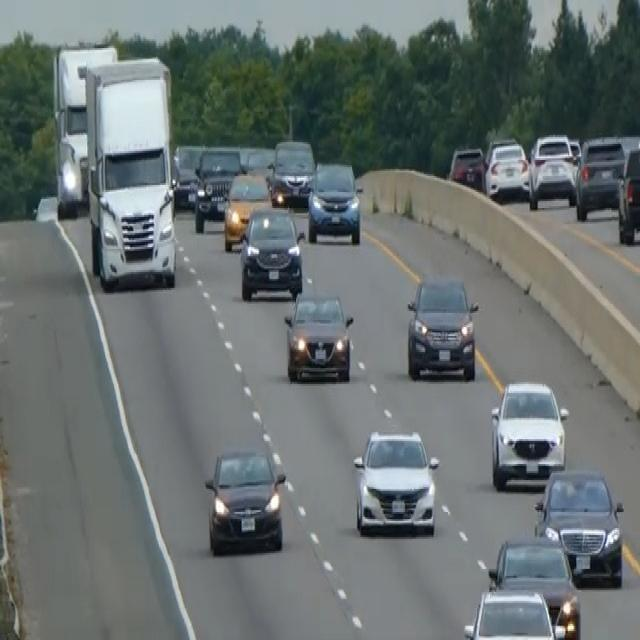car: (534, 466, 624, 586), (487, 534, 581, 638), (352, 427, 439, 537), (203, 444, 286, 554), (489, 377, 569, 489), (405, 272, 479, 380), (283, 288, 354, 384), (238, 202, 304, 300), (462, 583, 564, 638), (306, 158, 362, 245), (574, 134, 625, 220), (193, 144, 242, 231), (222, 169, 272, 251), (528, 132, 576, 208), (267, 137, 315, 208), (483, 135, 529, 201), (171, 142, 204, 210), (617, 144, 639, 244), (448, 144, 485, 192), (244, 146, 273, 178)
lorry: (83, 53, 177, 290)
